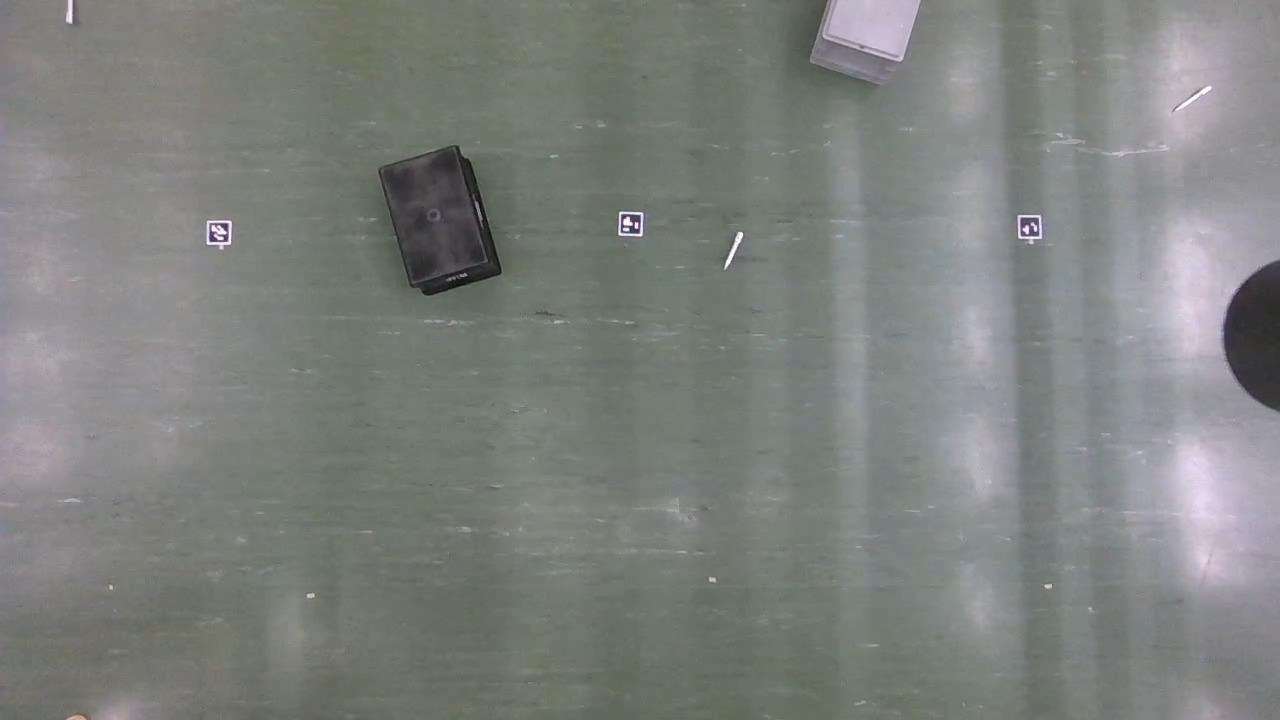probes: (1175, 86, 1208, 115), (725, 232, 745, 271), (67, 1, 78, 26)
rako: (380, 148, 502, 298), (807, 0, 921, 88)
